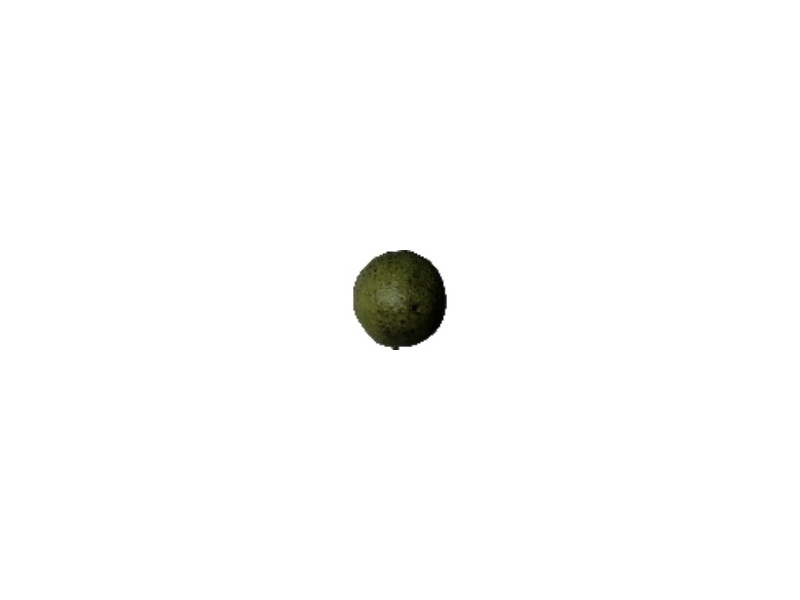abacate: (350, 249, 448, 348)
